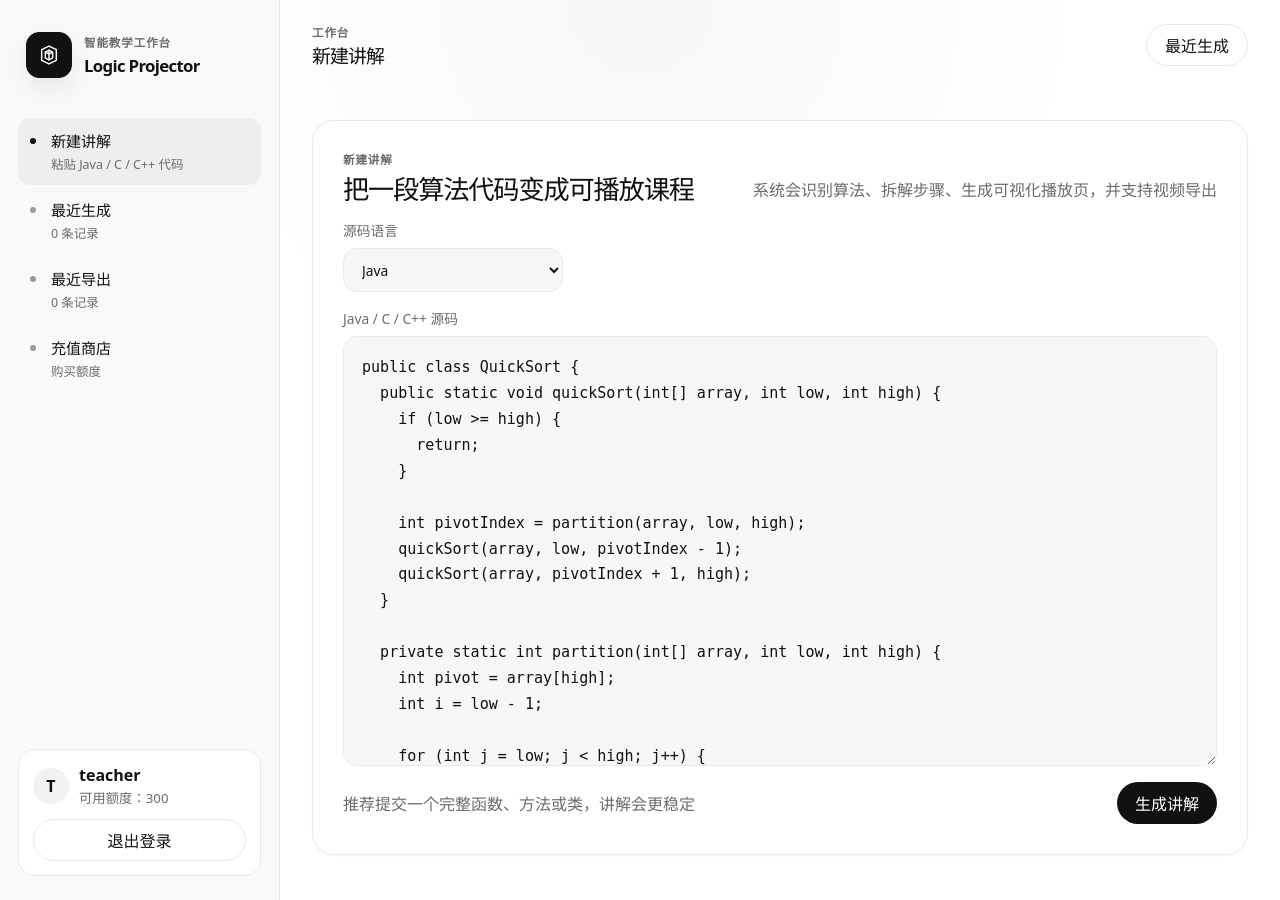
App › shows recharge order time in the recharge history
Click the button with class "sidebar-nav-item" showing "充值商店 购买额度": (140, 358) [18,325,261,392]
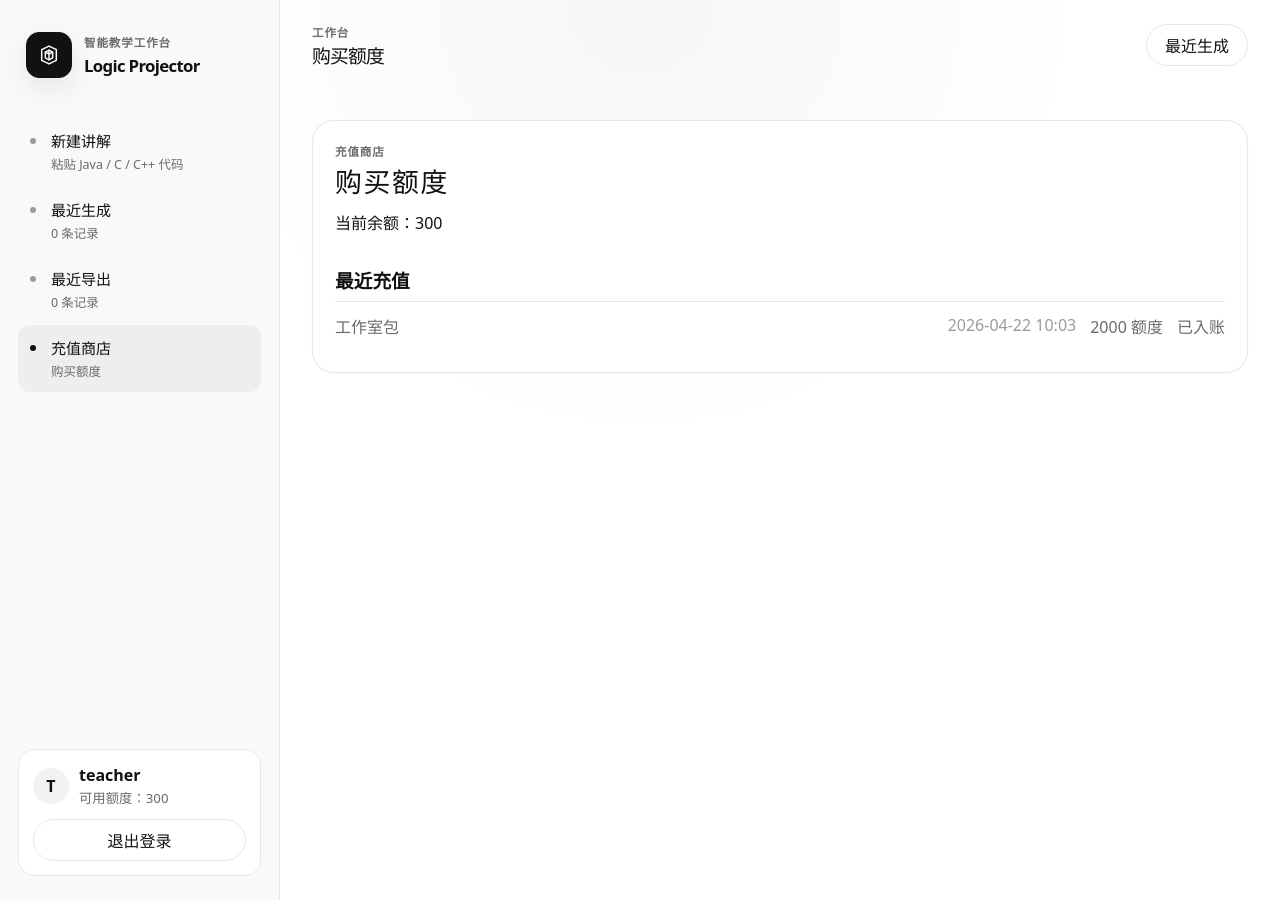
expect the text "工作室包" is shown: met, box [335,316,399,338]
expect the text "2026-04-22 10:03" is shown: met, box [948,314,1076,338]
expect the text "2000 额度" is shown: met, box [1090,314,1163,338]
